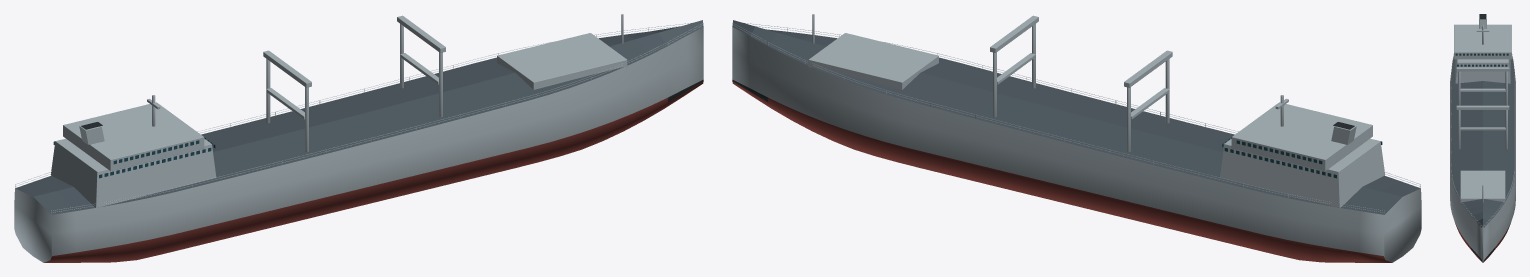
The model's file is rnon_aux_maud.glb.
The picture shows the model from 3 angles, left to right: view 1: azimuth 30°, elevation 25°; view 2: azimuth 150°, elevation 25°; view 3: azimuth 270°, elevation 25°; orthographic projection. The views are drawn at different scales.
Parts seen in each view (by area): view 1: rnon_aux_maud; view 2: rnon_aux_maud; view 3: rnon_aux_maud.
Part boxes in pixels (bbox=[...]): rnon_aux_maud: bbox=[14, 14, 703, 262]; rnon_aux_maud: bbox=[732, 14, 1421, 262]; rnon_aux_maud: bbox=[1450, 14, 1515, 262].
Size of the model in its own units: 10 by 2.12 by 1.4.
